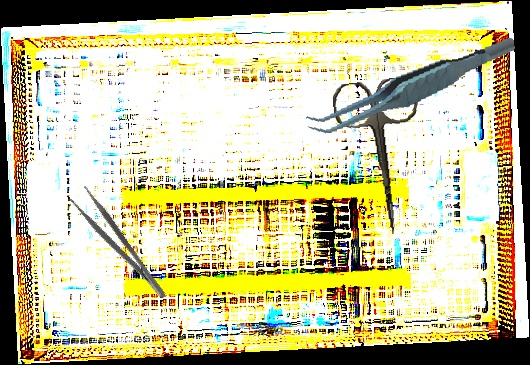Dressing Forceps: (67, 184, 170, 308)
Iris Scissors: (330, 75, 434, 240)
Tissue Forceps: (298, 36, 524, 137)
